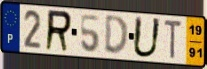2: (23, 9, 43, 51)
5: (79, 13, 101, 55)
D: (103, 14, 130, 57)
R: (44, 9, 74, 54)
T: (162, 18, 184, 61)
U: (131, 15, 163, 60)
